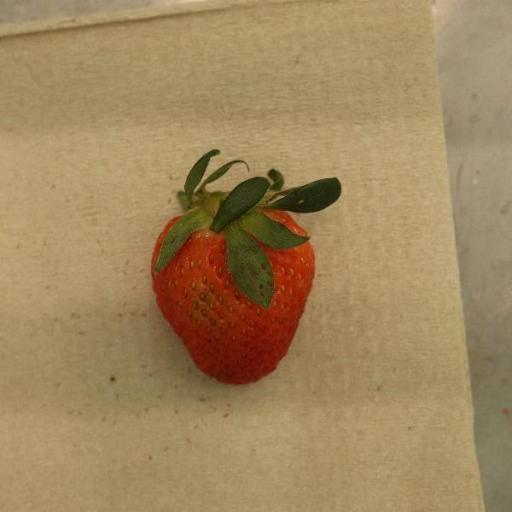Strawberry: (151, 149, 342, 386)
